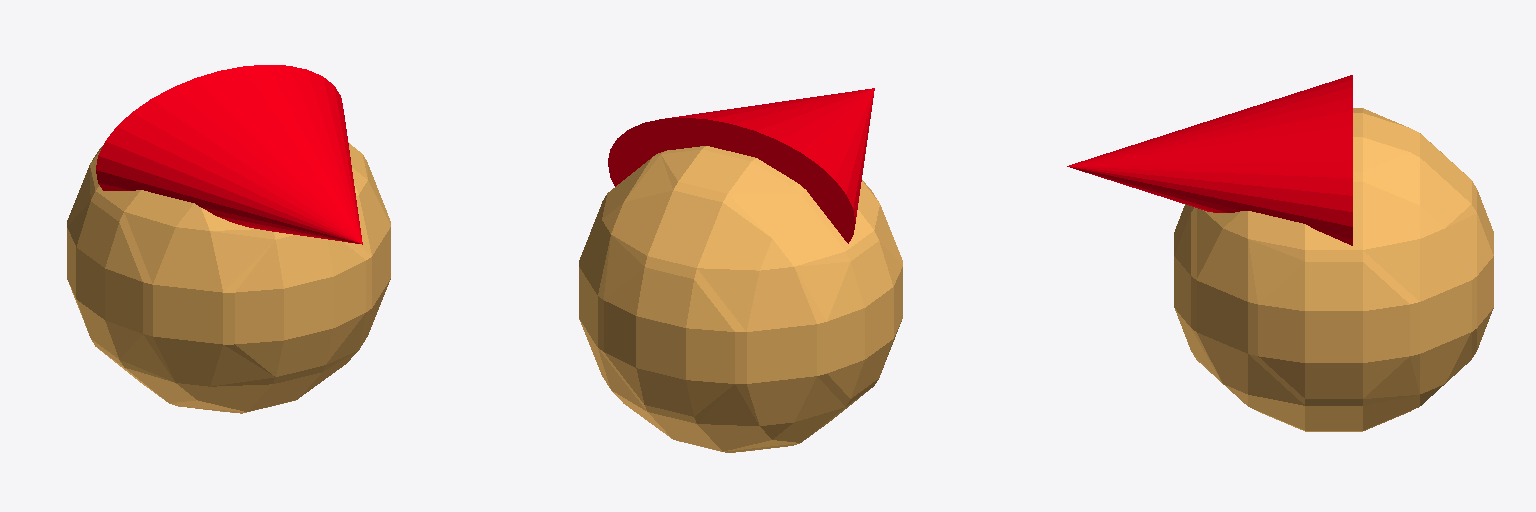
The picture shows the model from 3 angles: view 1: azimuth 30°, elevation 25°; view 2: azimuth 150°, elevation 25°; view 3: azimuth 270°, elevation 25°; orthographic projection.
Visible parts, largest first — view 1: Mball.002, 圓錐體.002; view 2: Mball.002, 圓錐體.002; view 3: Mball.002, 圓錐體.002.
Part boxes in pixels (x1,y1,x2,y2): Mball.002: (67,142,390,413); 圓錐體.002: (96,65,362,244); Mball.002: (579,146,902,452); 圓錐體.002: (608,88,874,243); Mball.002: (1174,108,1493,431); 圓錐體.002: (1067,75,1352,245).
Size of the model in its own units: 2.23 by 2.44 by 2.99.
Materials: 2 (2 with a texture image).